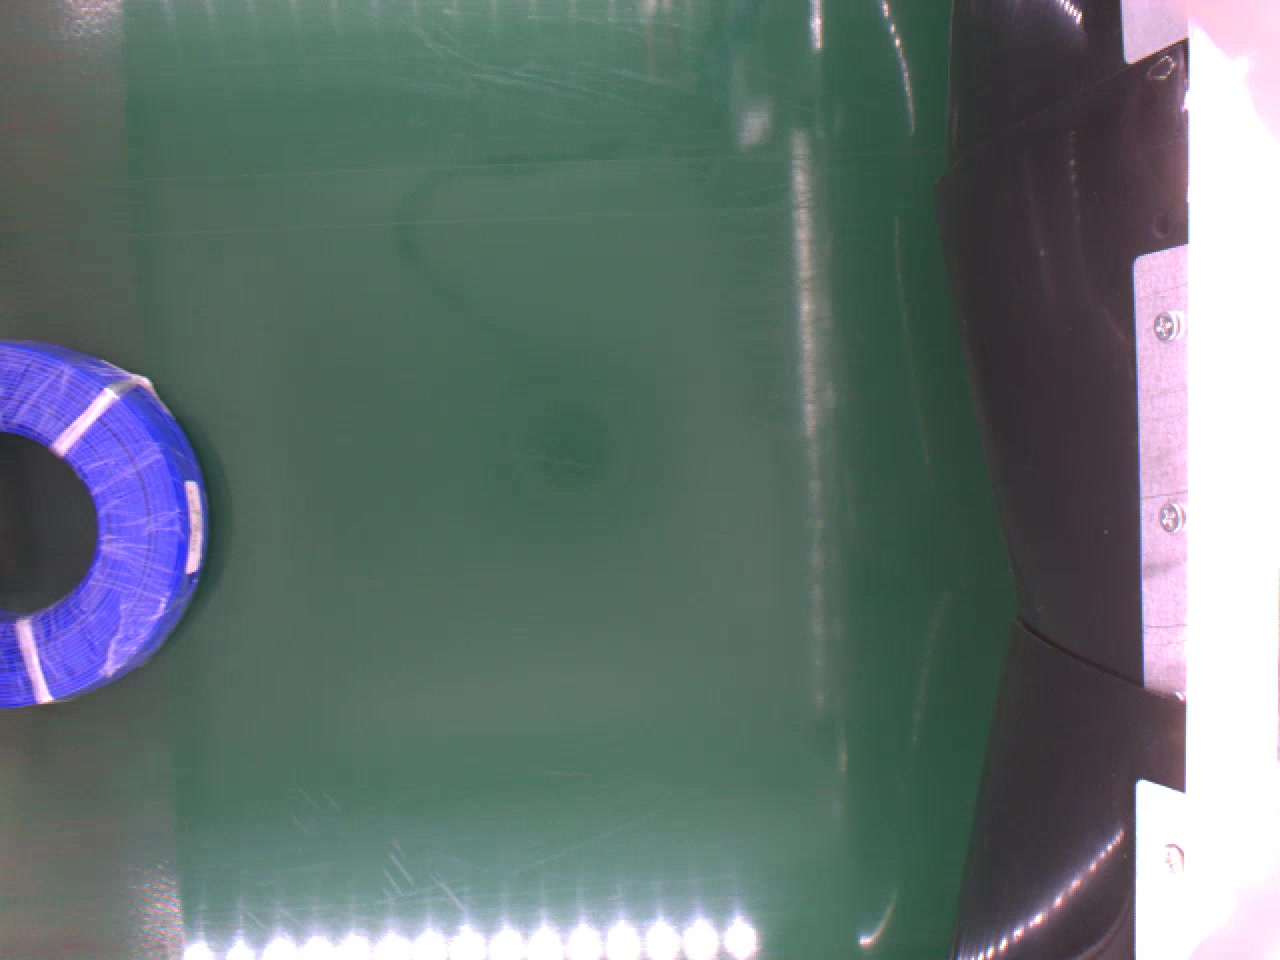blue: (0, 336, 209, 707)
